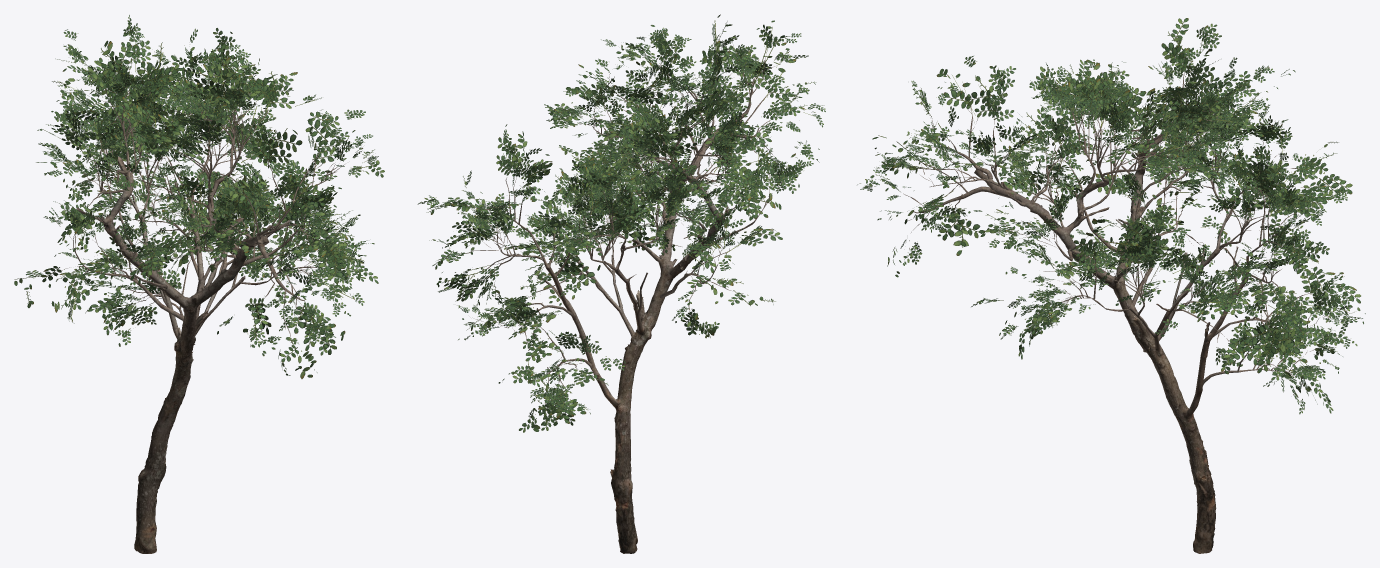
The model's file is boom_loofboom.gltf.
3 renders of one model, left to right at view 1: azimuth 30°, elevation 25°; view 2: azimuth 150°, elevation 25°; view 3: azimuth 270°, elevation 25°, orthographic. The views are drawn at different scales.
Visible parts, largest first — view 1: tree_small_02_LOD0; view 2: tree_small_02_LOD0; view 3: tree_small_02_LOD0.
Boxes of the visible parts, box(x1,y1,x2,y2) form: tree_small_02_LOD0: box(14, 15, 384, 553); tree_small_02_LOD0: box(417, 14, 825, 553); tree_small_02_LOD0: box(857, 18, 1365, 553).
Bounding box in the file's own units: 2.93 × 4.59 × 4.29.
Materials: 3 (3 with a texture image).
